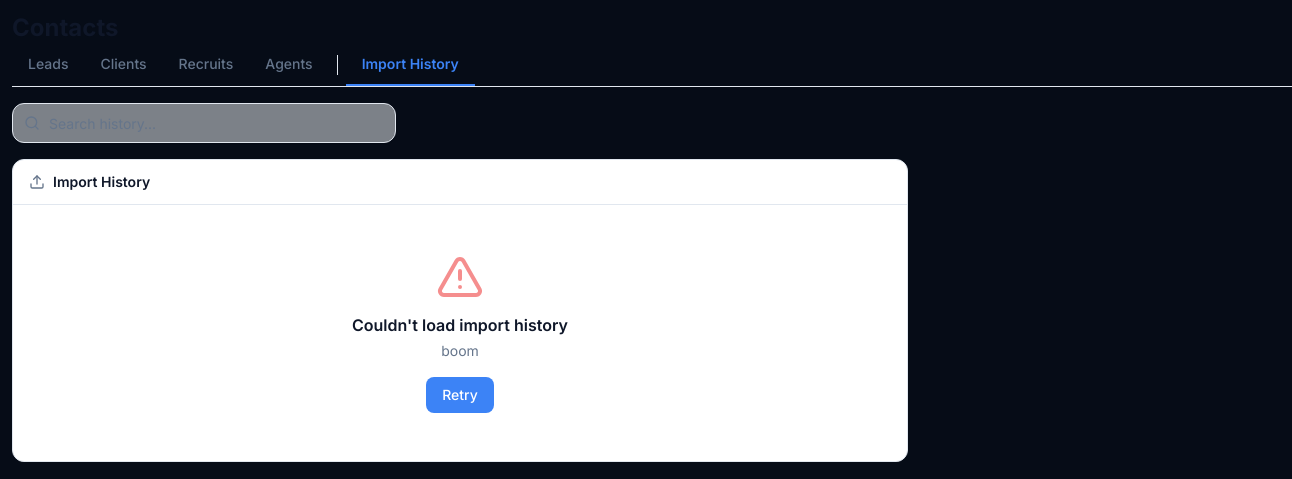
Test: errors are distinguishable from an empty history › Retry re-issues the query
Expected: the heading "Couldn't load import history" is shown, [352, 315, 568, 335]
Click the button "Retry".
click(460, 395)  # box [426, 377, 494, 413]
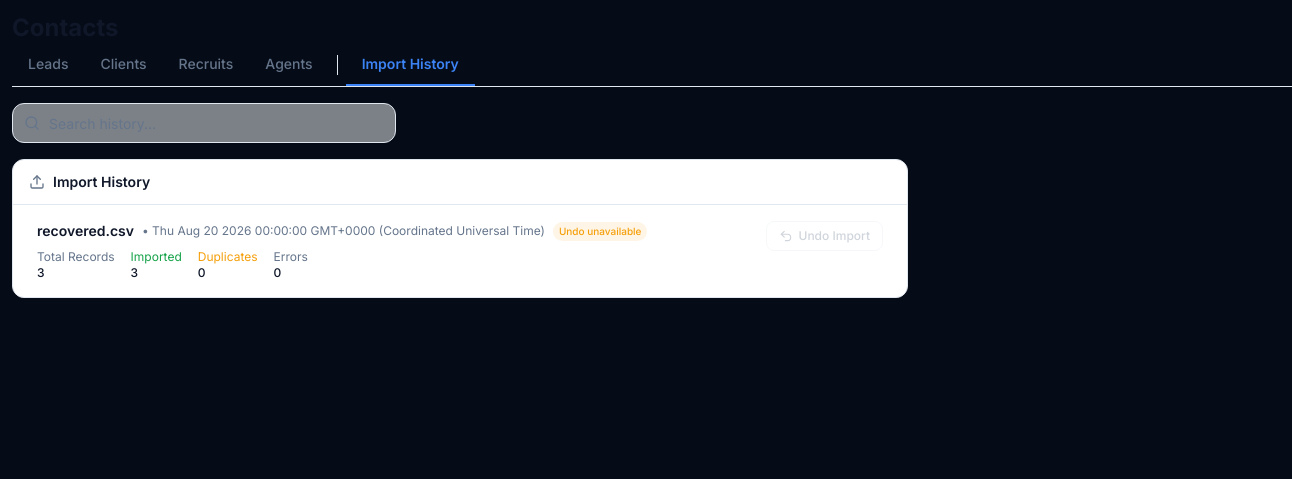
Result: the text "recovered.csv" is shown at [37, 221, 134, 241]
